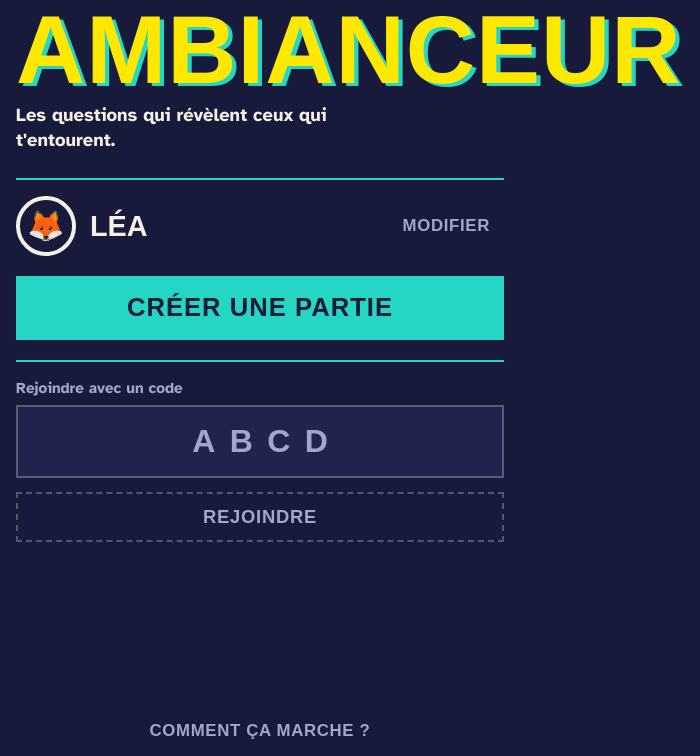
Scenario: accueil et profil › modifie le profil sans changer l'identifiant d'appareil
This screenshot has width=700, height=756.
Click the button "Modifier".
click(446, 226)  # box [389,202,504,250]
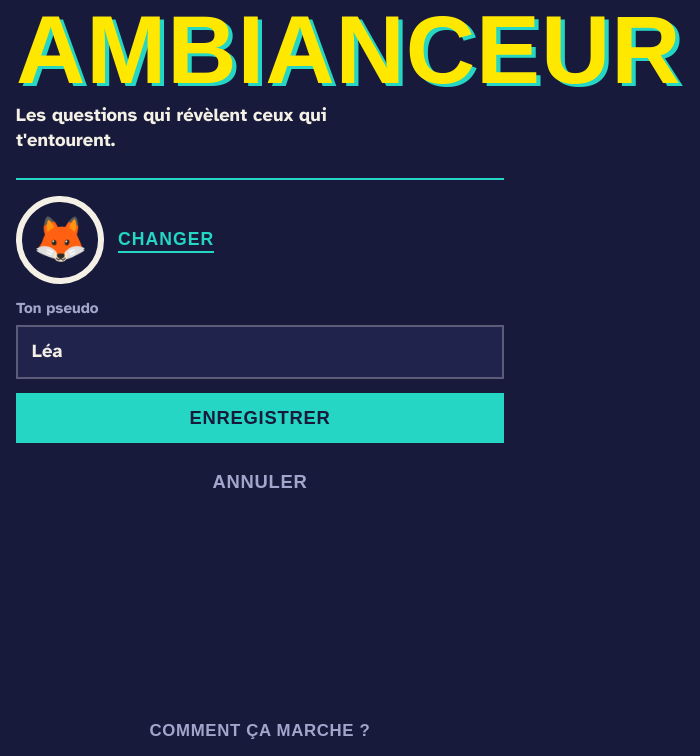
Now the field labelled "Ton pseudo" holds "Léa"
Replace the text in the field labelled "Ton pseudo" with "Léa la Grande" at (260,352), box [16,325,504,379]
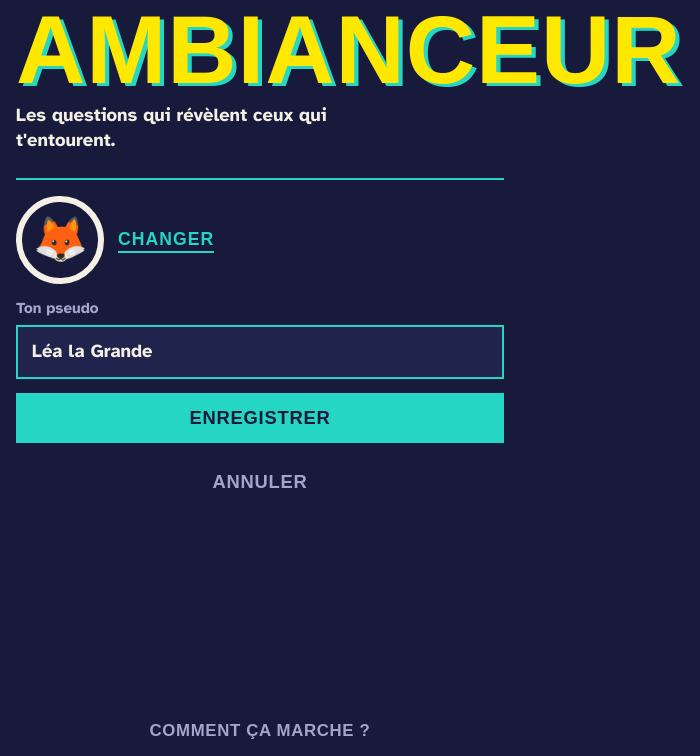
Click the button "Enregistrer".
click(260, 418)  # box [16,393,504,443]
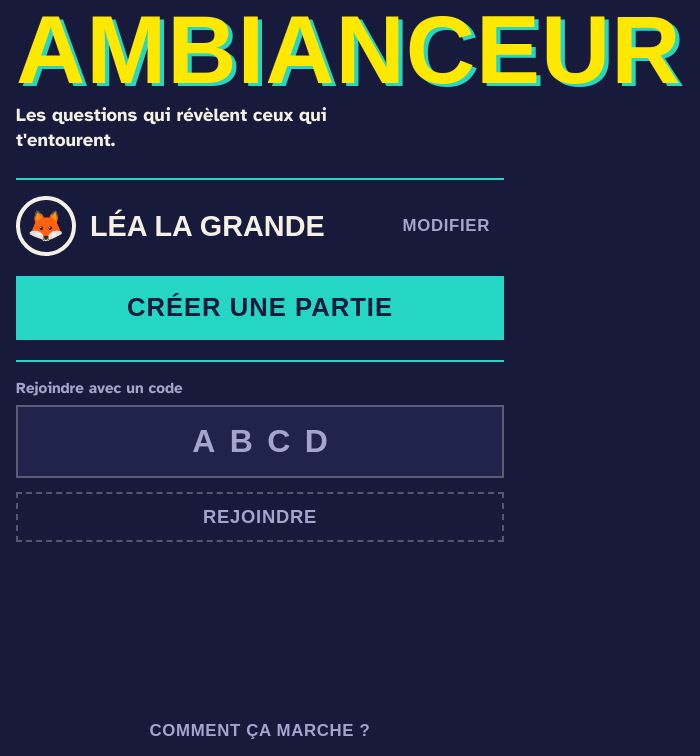
Now the text "Léa la Grande" is shown, box [90,210,325,242]
